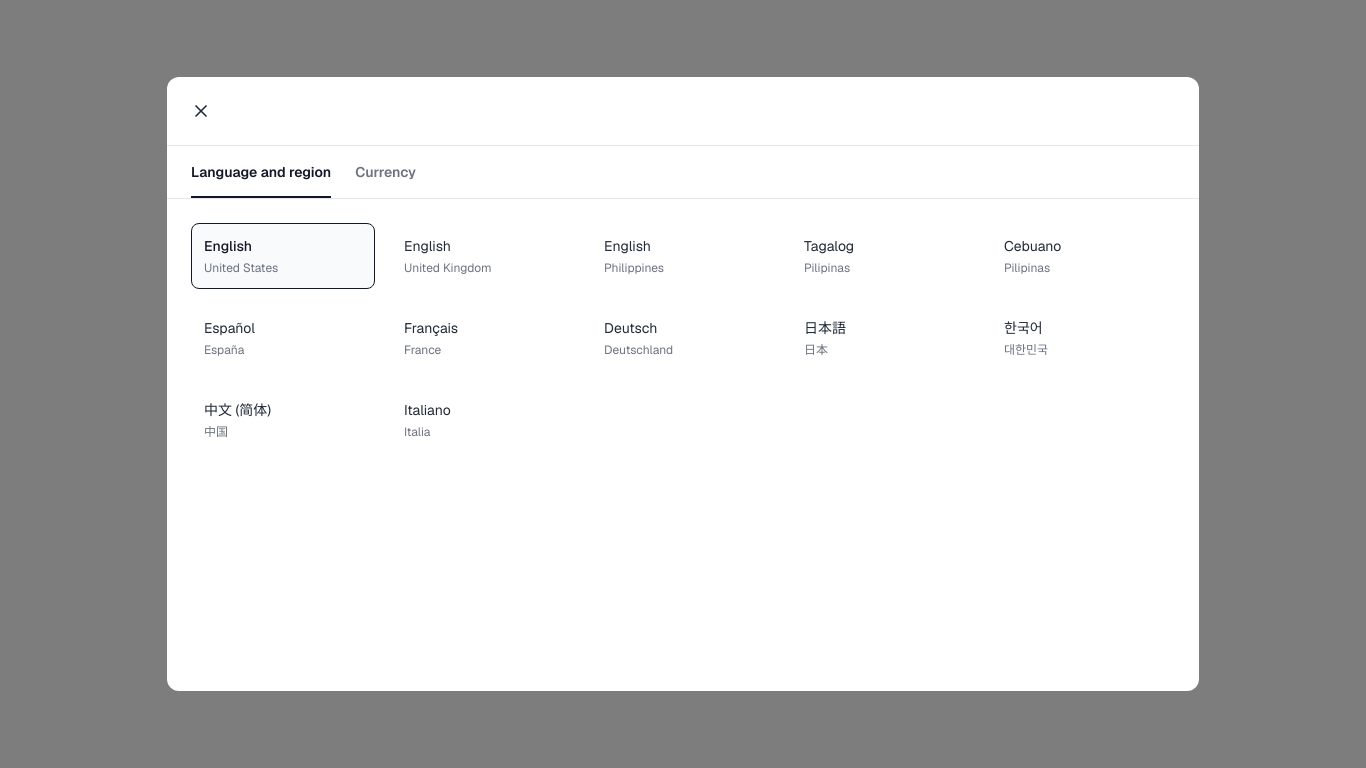
LanguageCurrencyModal Component › switches between tabs correctly
The width and height of the screenshot is (1366, 768).
Expected: the text "United States" is shown, [204,260,278,276]
Note: Switch to Currency
Click the button "Currency": [386, 172] box [355,146,416,198]
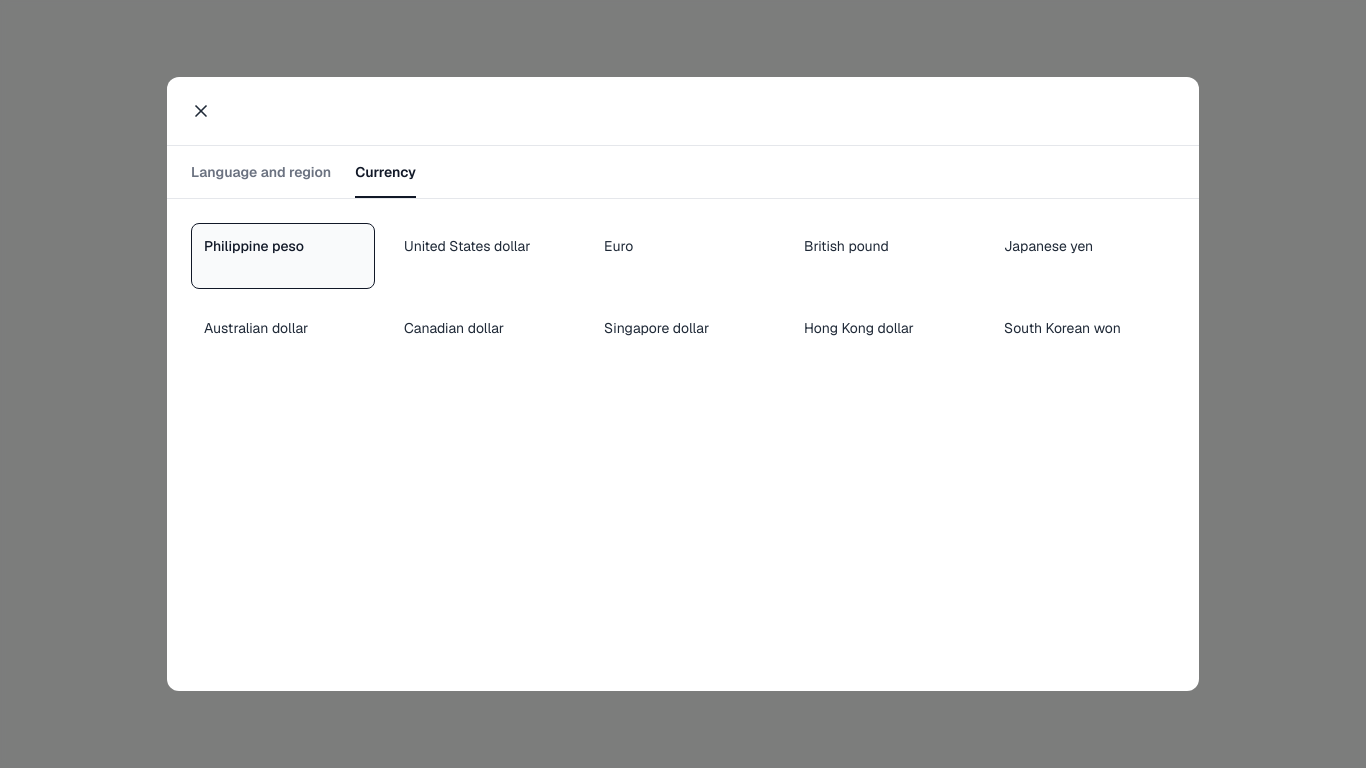
Expected: the text "Philippine peso" is shown, [204,237,304,255]
Expected: the text "United States dollar" is shown, [404,237,530,255]
